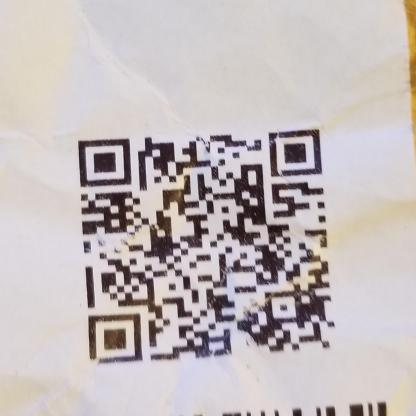barcode: (190, 399, 397, 416)
qr: (74, 132, 336, 358)
